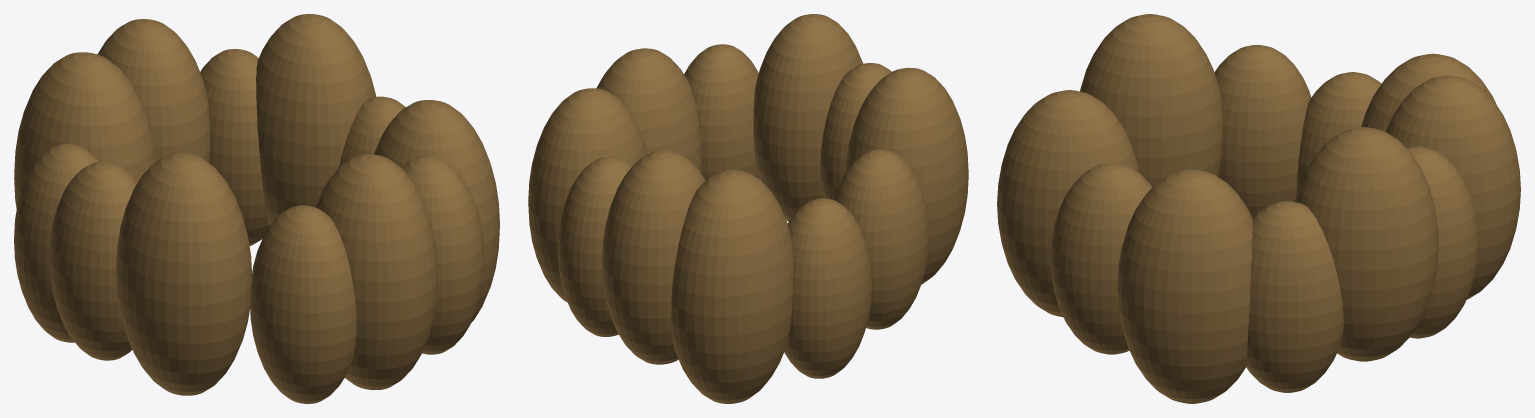
Rendered from burrow.glb.
The picture shows the model from 3 angles, left to right: view 1: azimuth 30°, elevation 25°; view 2: azimuth 150°, elevation 25°; view 3: azimuth 270°, elevation 25°; orthographic projection. The views are drawn at different scales.
Visible parts, largest first — view 1: Mesh_Mesh_head_geo.001_lambert2SG.001; view 2: Mesh_Mesh_head_geo.001_lambert2SG.001; view 3: Mesh_Mesh_head_geo.001_lambert2SG.001.
Boxes of the visible parts, <box> form: Mesh_Mesh_head_geo.001_lambert2SG.001: <box>14,14,499,403</box>; Mesh_Mesh_head_geo.001_lambert2SG.001: <box>528,14,968,403</box>; Mesh_Mesh_head_geo.001_lambert2SG.001: <box>997,14,1520,403</box>.
Size of the model in its own units: 11.6 by 7.5 by 13.7.
